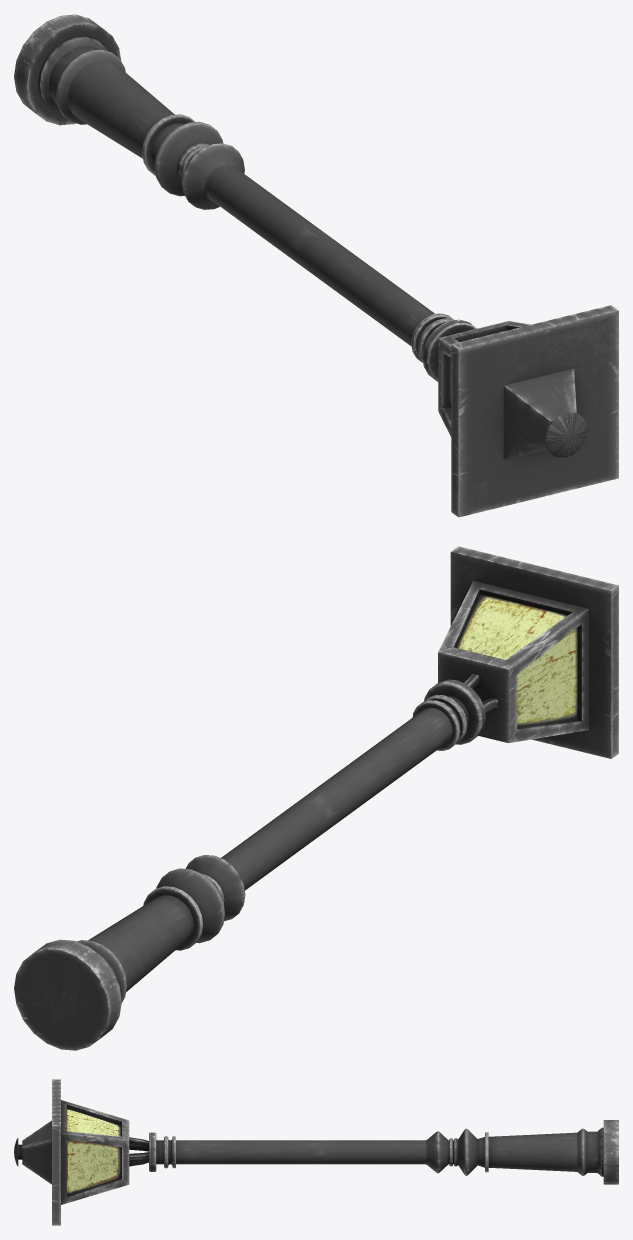
Rendered from Faro.obj.
3 views of the same model, one above another, from view 1: azimuth 30°, elevation 25°; view 2: azimuth 150°, elevation 25°; view 3: azimuth 270°, elevation 25° (orthographic). The views are drawn at different scales.
Visible parts, largest first — view 1: StreetLight; view 2: StreetLight; view 3: StreetLight.
Boxes of the visible parts, x1,y1,x2,y2 form: StreetLight: [14, 14, 618, 517]; StreetLight: [14, 546, 618, 1050]; StreetLight: [14, 1079, 618, 1225].
Size of the model in its own units: 2.86 by 2.86 by 15.71.
